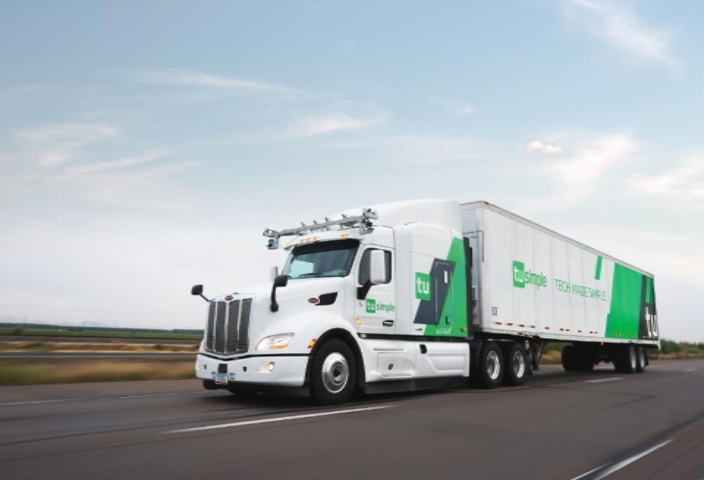truck: (179, 183, 678, 413)
